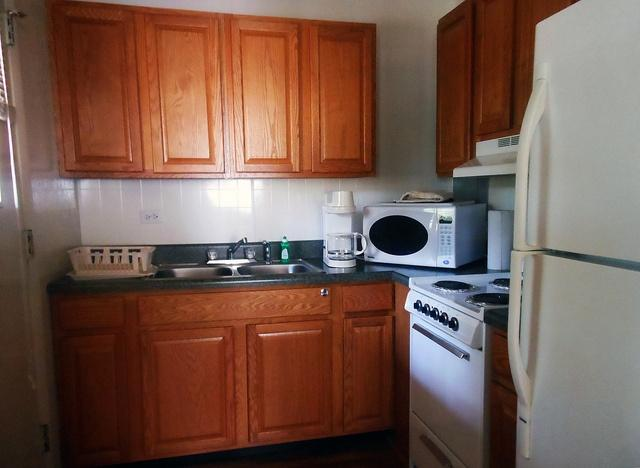Lemari: (45, 0, 375, 176)
